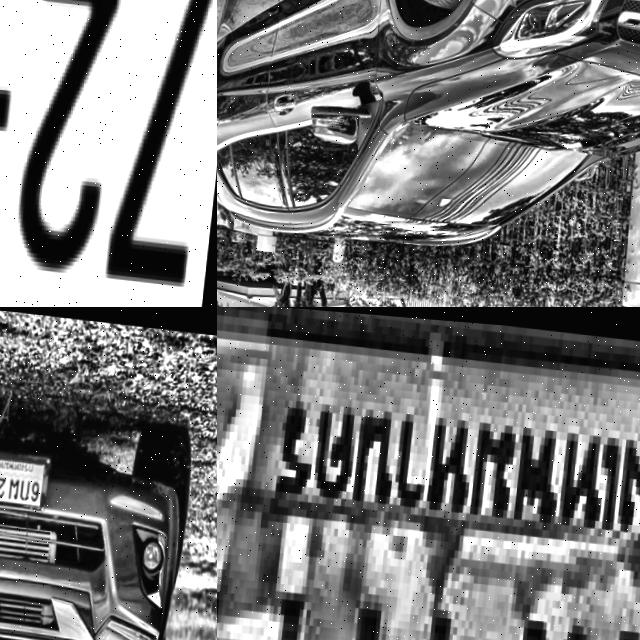license-plate: (217, 307, 640, 640), (0, 0, 217, 307), (0, 437, 55, 513)
